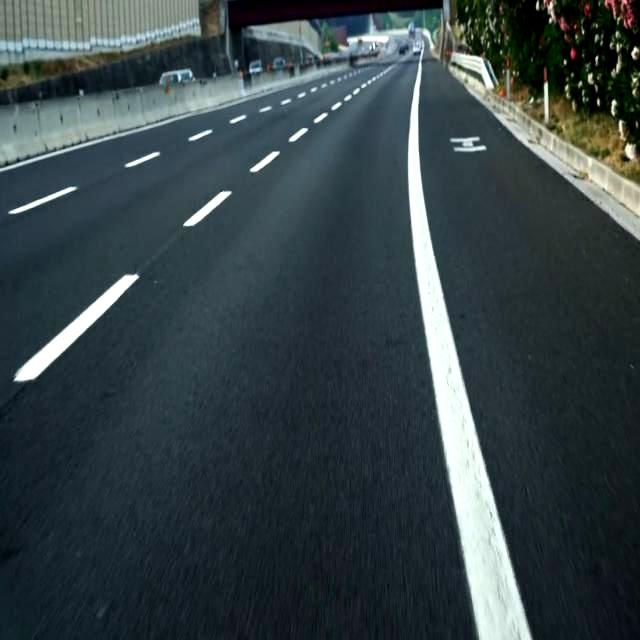lane: (408, 59, 531, 640), (14, 274, 139, 382), (0, 113, 200, 172), (9, 186, 78, 215), (184, 191, 231, 227), (250, 152, 280, 172), (125, 151, 160, 168)
road: (0, 58, 476, 639), (419, 59, 639, 639)
